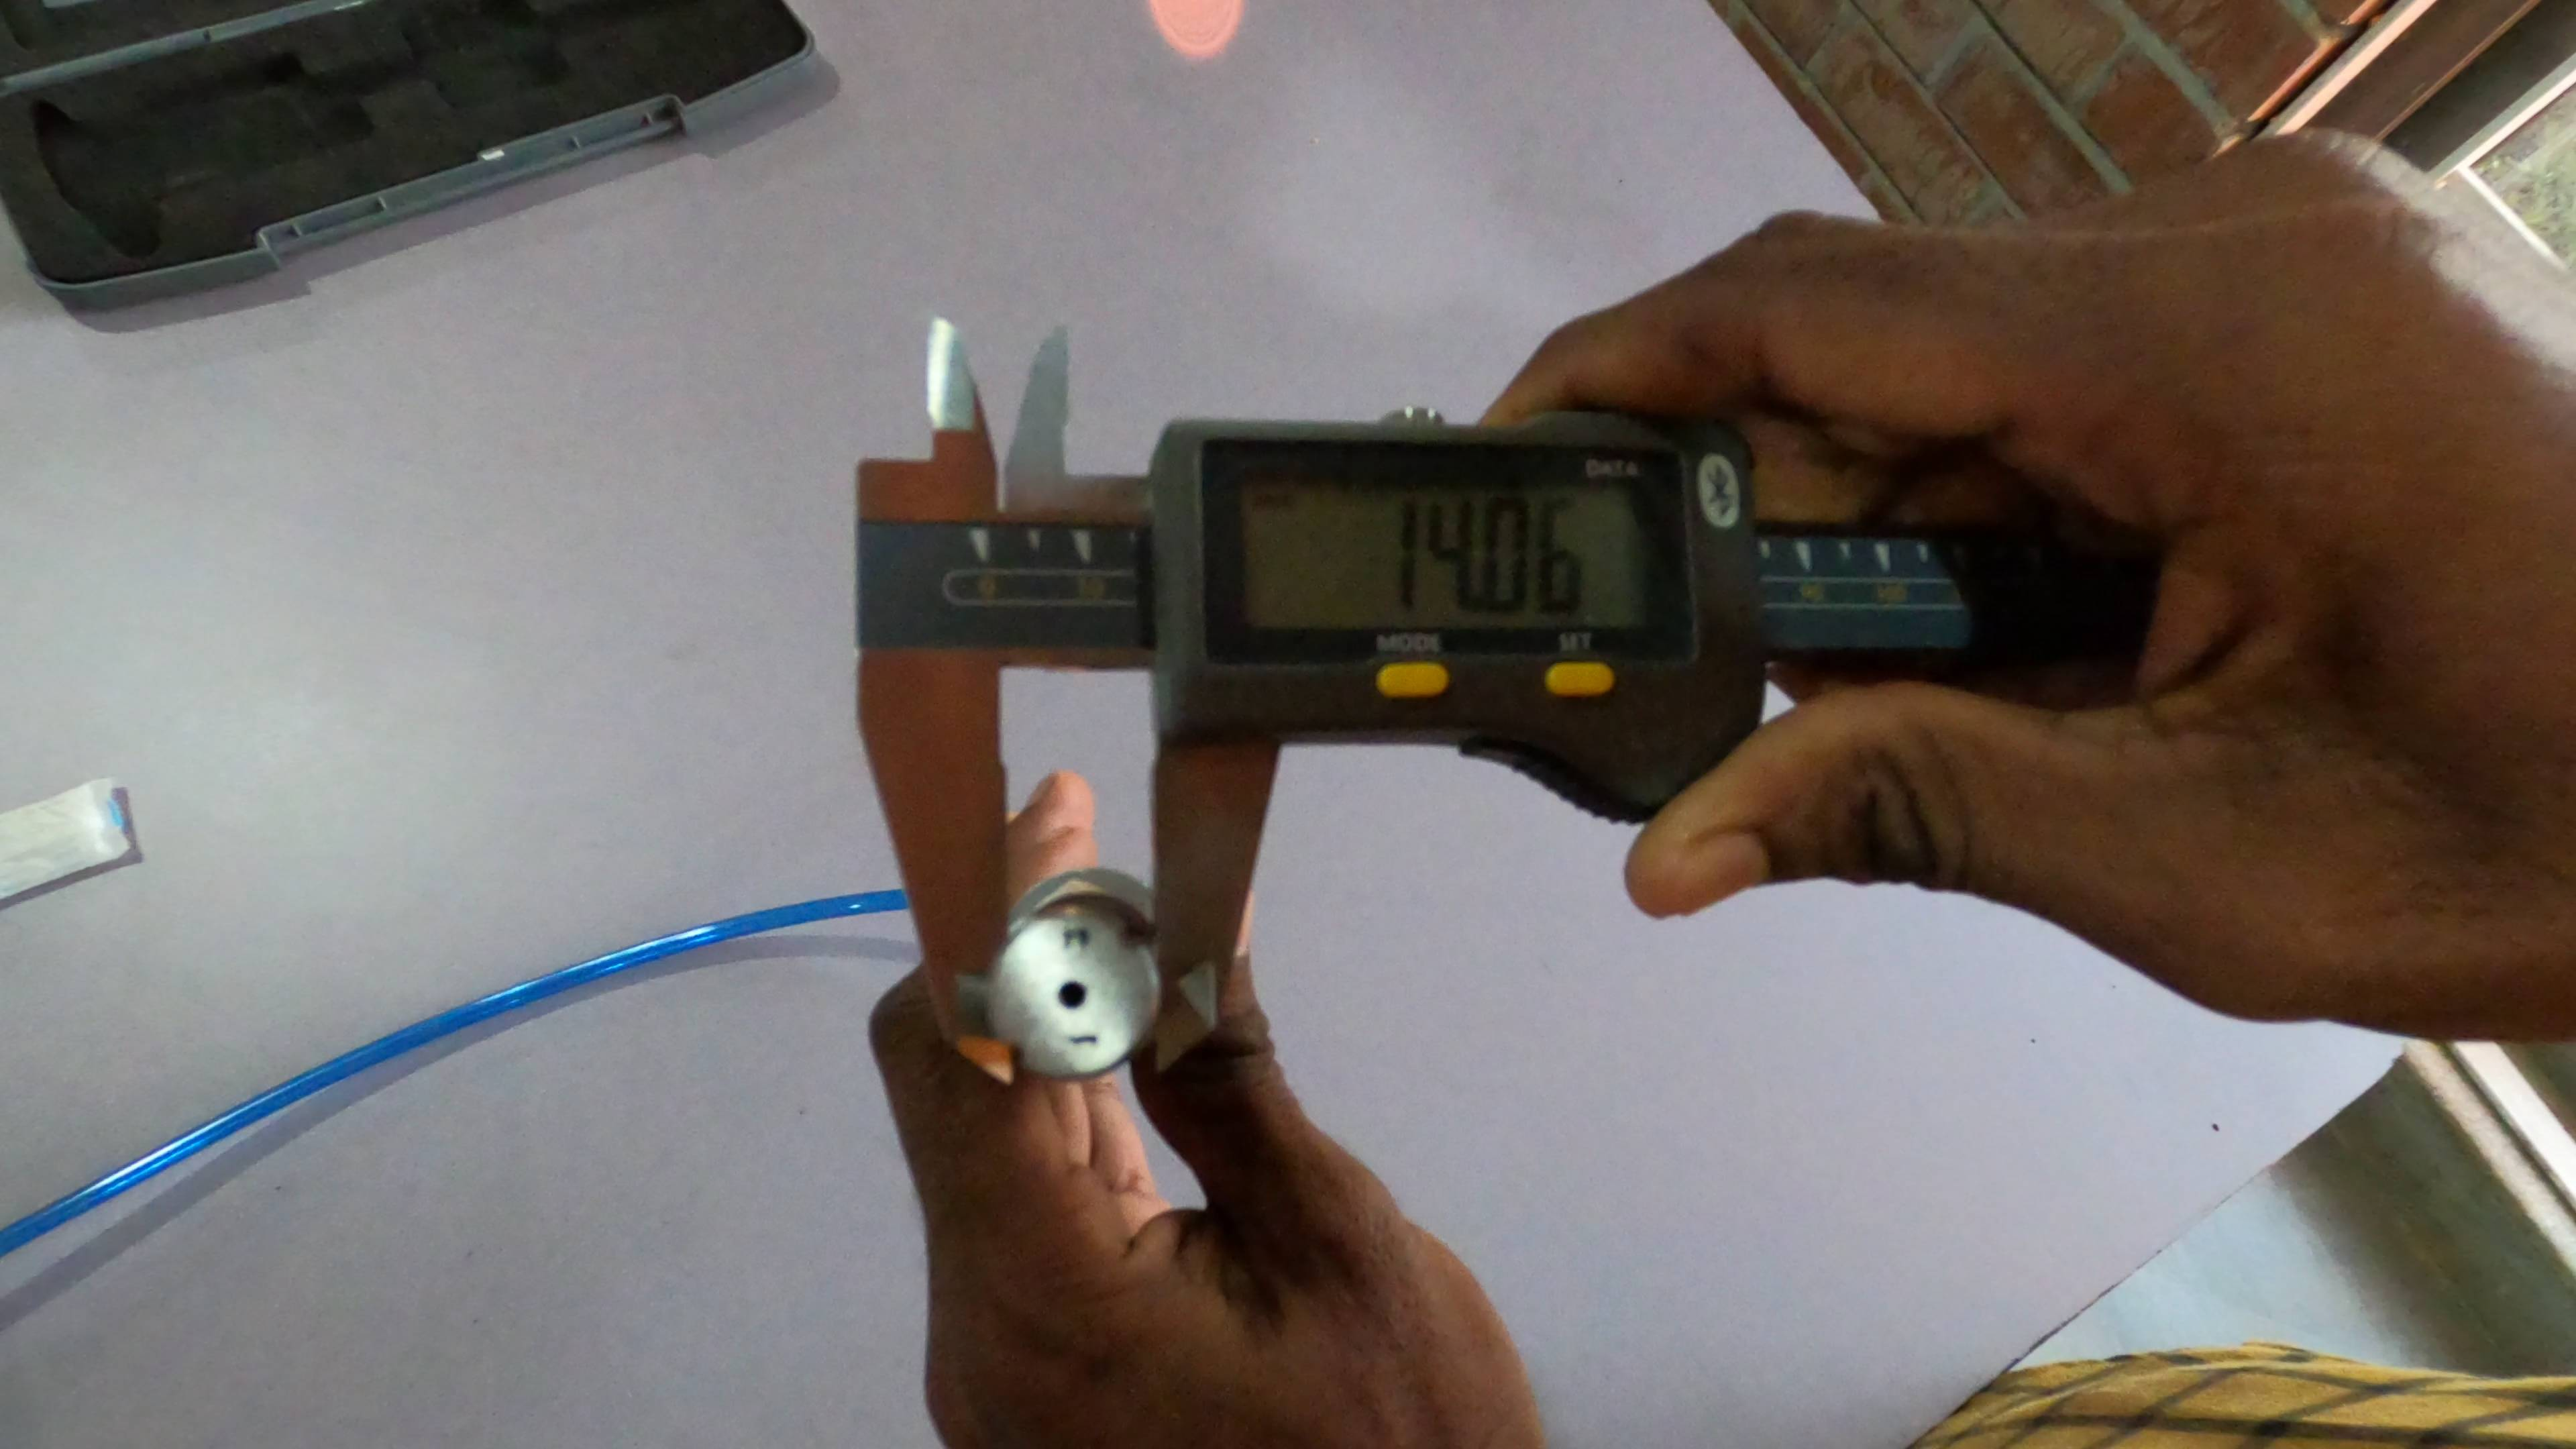vernier_caliper: (855, 313, 2144, 1076)
